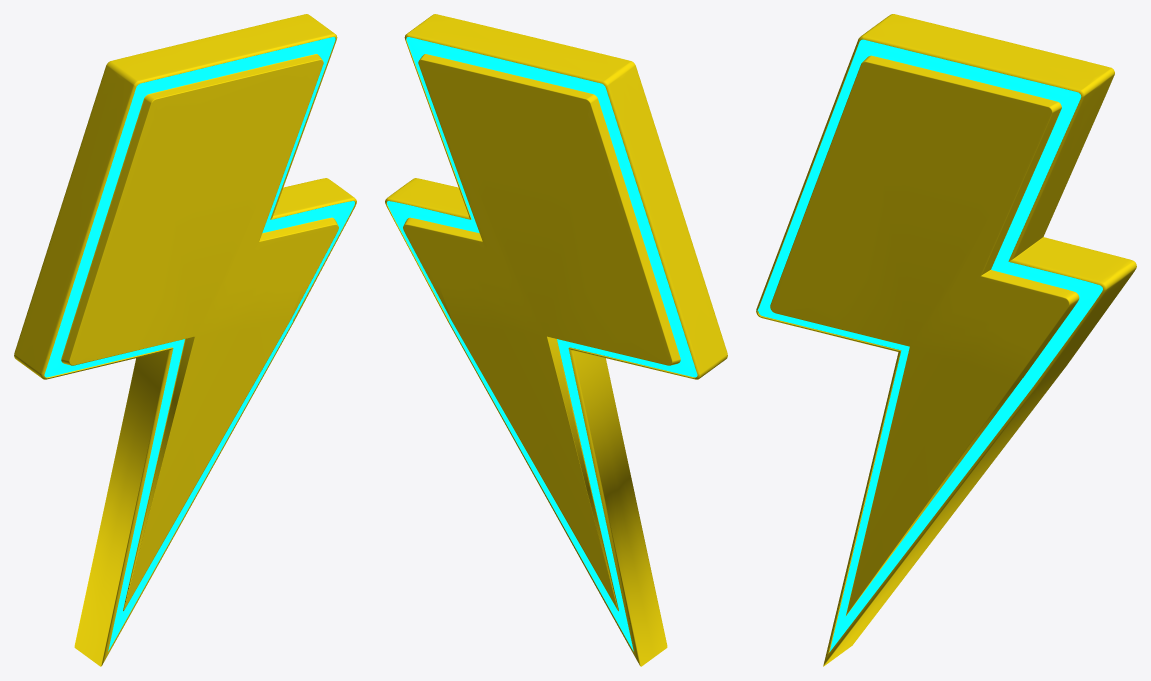
Rendered from thunder.glb.
The picture shows the model from 3 angles, left to right: view 1: azimuth 30°, elevation 25°; view 2: azimuth 150°, elevation 25°; view 3: azimuth 330°, elevation 25°; orthographic projection. The views are drawn at different scales.
Visible parts, largest first — view 1: pPlane1; view 2: pPlane1; view 3: pPlane1.
Boxes of the visible parts, left/top/right/bottom form: pPlane1: left=14, top=14, right=356, bottom=666; pPlane1: left=385, top=14, right=727, bottom=666; pPlane1: left=756, top=14, right=1136, bottom=666.
Bounding box in the file's own units: 4.92 × 8.6 × 1.16.
